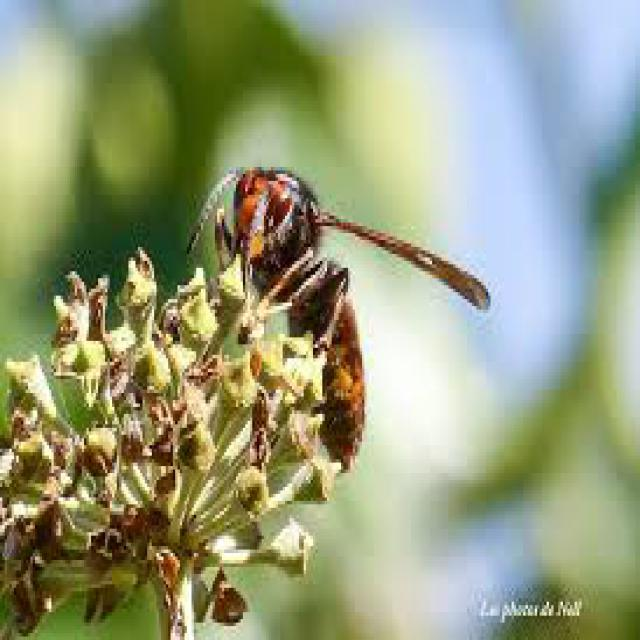Vespa Velutina: (181, 150, 499, 489)
